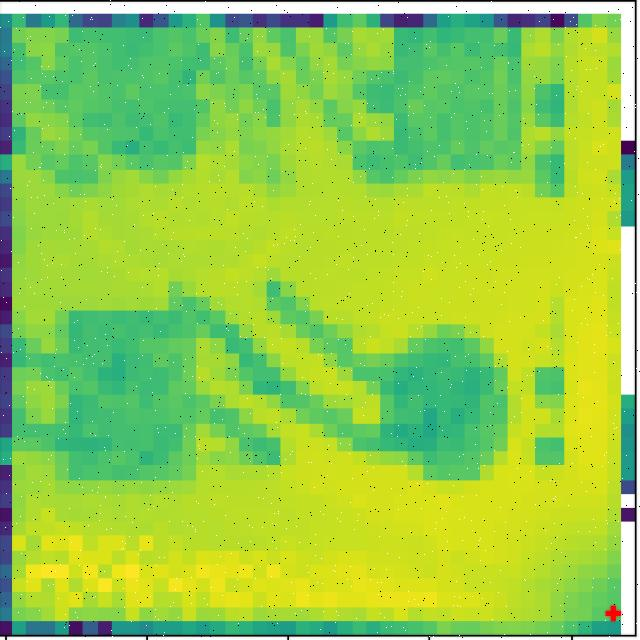Concrete: (52, 310, 199, 481)
Glass: (379, 29, 526, 180)
Metal: (51, 26, 196, 190)
Wood: (382, 320, 514, 489)
